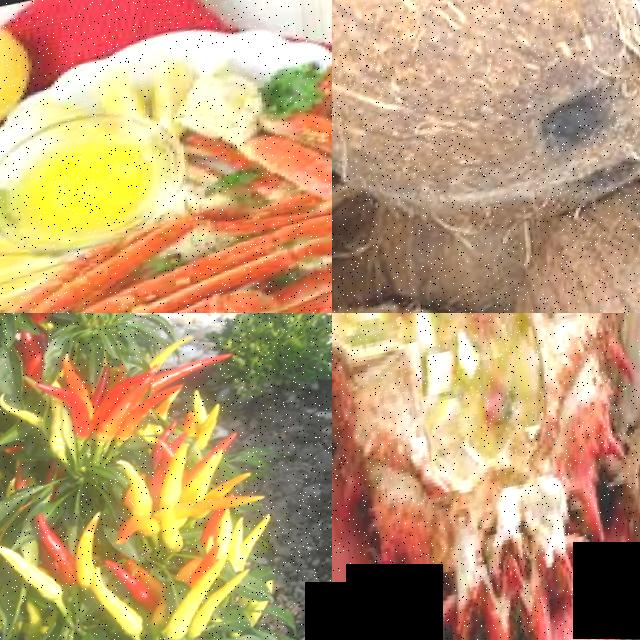chilli: (35, 374, 100, 451), (102, 551, 170, 623), (152, 351, 238, 399), (30, 510, 82, 584), (72, 515, 113, 590)
coconut: (332, 0, 640, 260), (495, 139, 640, 313)
crab: (0, 218, 290, 313), (235, 93, 332, 313)
